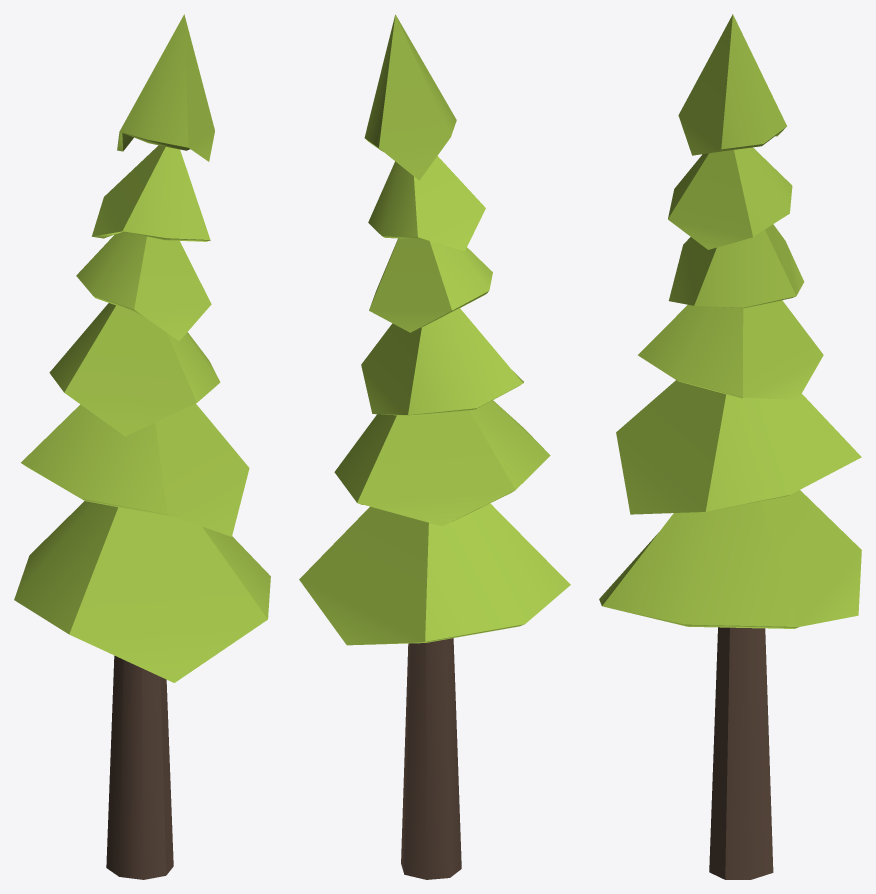
The picture shows the model from 3 angles, left to right: view 1: azimuth 30°, elevation 25°; view 2: azimuth 150°, elevation 25°; view 3: azimuth 270°, elevation 25°; orthographic projection. The views are drawn at different scales.
Parts seen in each view (by area): view 1: default9_Material_0; view 2: default9_Material_0; view 3: default9_Material_0.
Boxes of the visible parts, <box> form: default9_Material_0: <box>14,14,270,879</box>; default9_Material_0: <box>299,14,570,879</box>; default9_Material_0: <box>599,14,861,879</box>.
Bounding box in the file's own units: 0.0338 × 0.1266 × 0.0345.
1 material, 1 textured.
